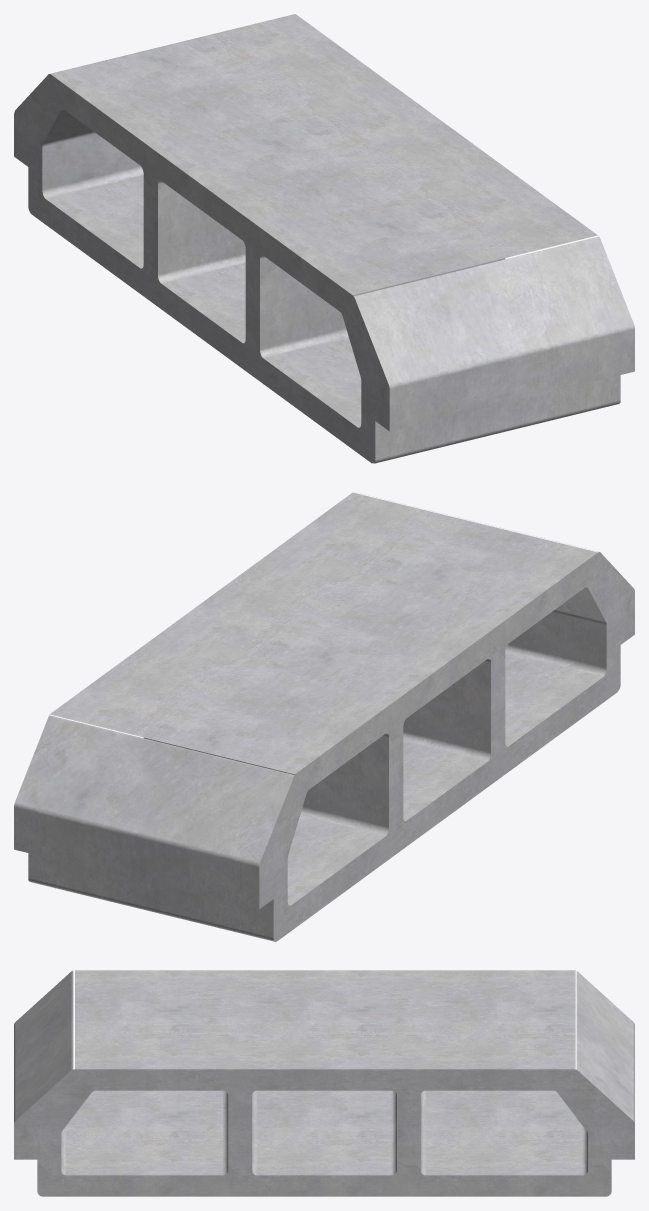
The model's file is claveau_beton_12_53.glb.
3 renders of one model, top to bottom at view 1: azimuth 30°, elevation 25°; view 2: azimuth 150°, elevation 25°; view 3: azimuth 270°, elevation 25°, orthographic. The views are drawn at different scales.
Size of the model in its own units: 20 by 12 by 53.
1 material, 1 textured.
